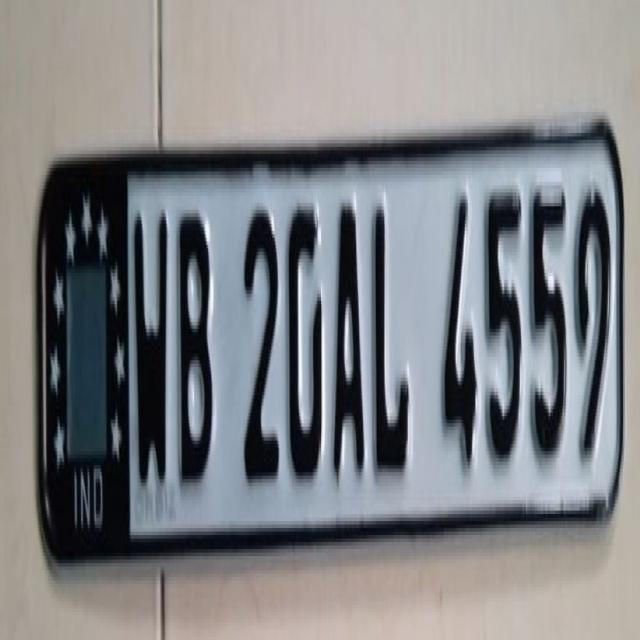0: (281, 187, 331, 505)
4: (439, 178, 480, 486)
5: (527, 161, 574, 479), (484, 164, 526, 470)
9: (573, 173, 616, 484)
A: (330, 202, 365, 502)
B: (172, 207, 219, 496)
L: (369, 178, 415, 501)
W: (128, 170, 176, 526)
